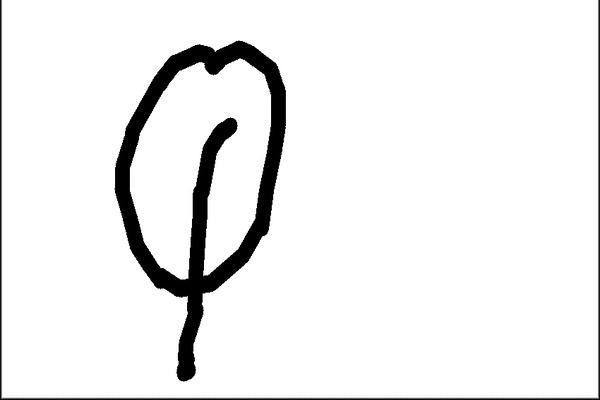Q: (96, 29, 303, 382)
